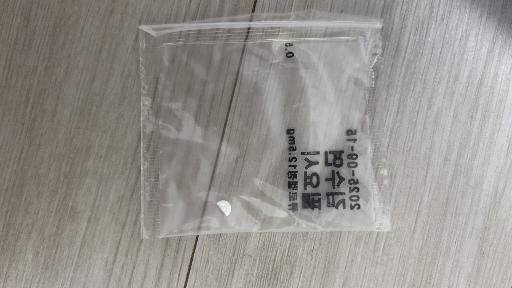Q-Rokel: (139, 10, 390, 237), (217, 200, 231, 216)
